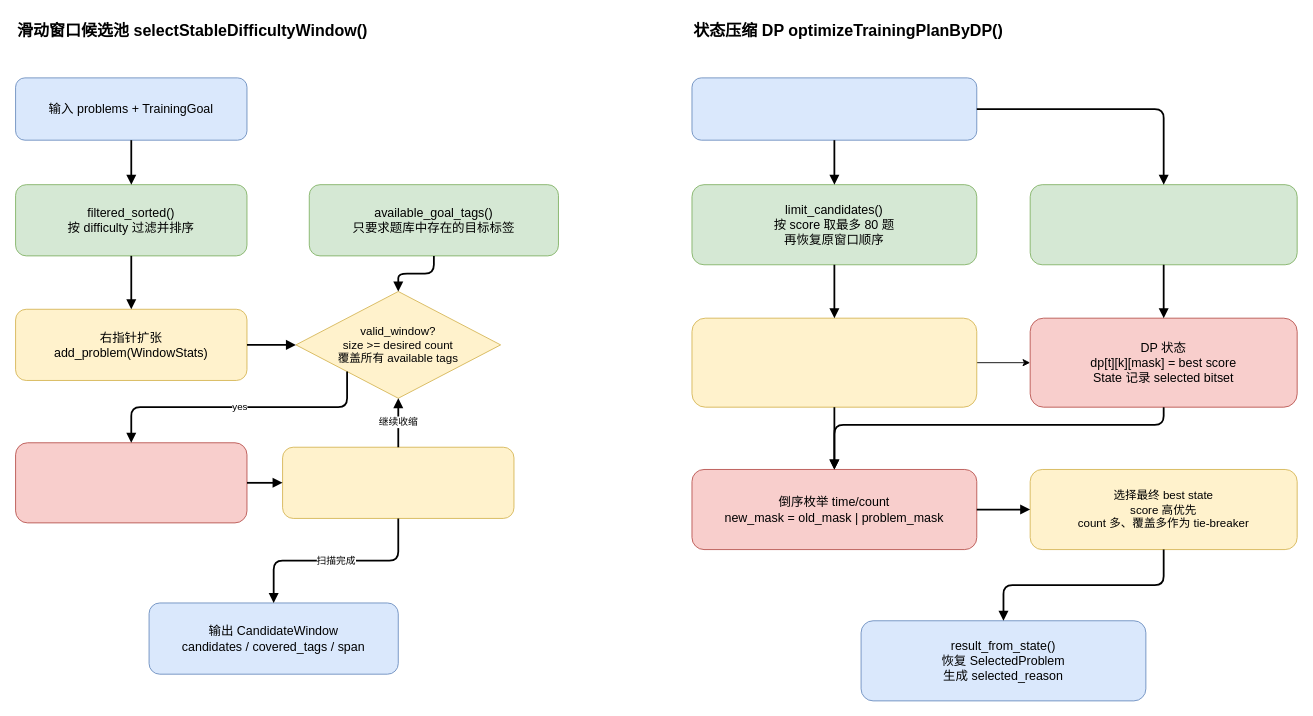
Image size: 1313x716. Some labels were removed from this diagram. The shapes that lost their labels are listed below. From the top down, each one's centre as x and y in pixels, then its label:
(834,108): 输入 CandidateWindow.candidates + TrainingGoal
(1163,224): core_tags() 目标标签优先，最多 8 个 补充高优先级薄弱标签
(834,362): scoreProblemForGoal() 目标标签 + 错题 + 薄弱标签 - 难度偏移 - 耗时惩罚
(131,482): better_window() 跨度小、覆盖多、错题/薄弱优先
(398,482): 左指针收缩 remove_problem(WindowStats)
